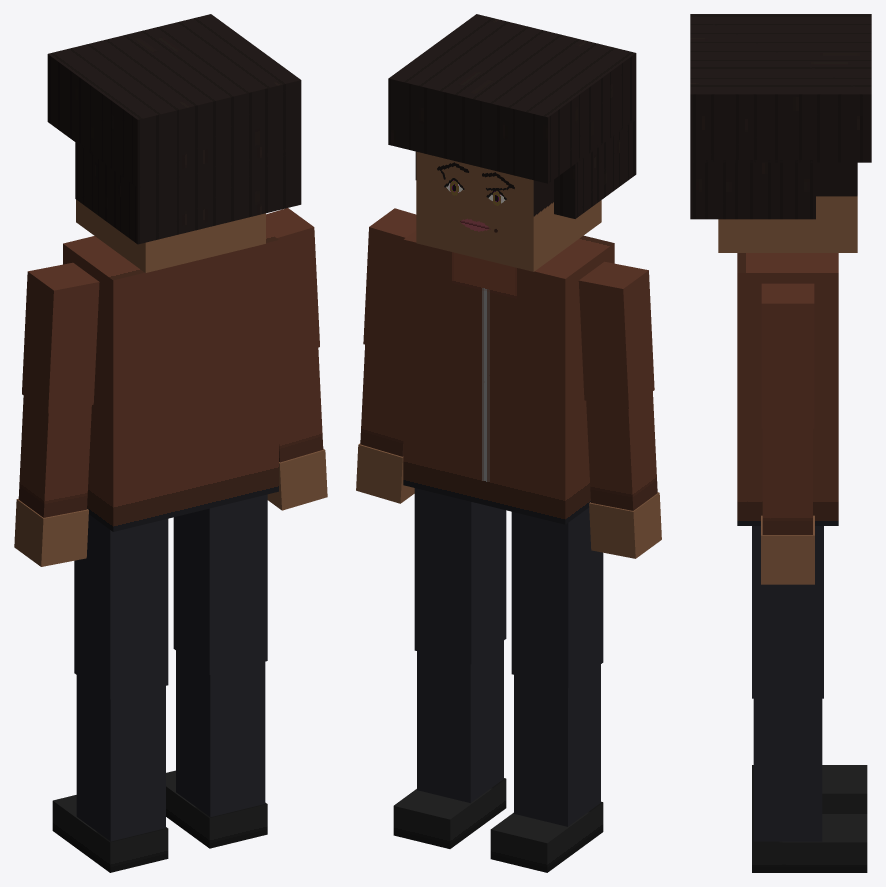
Rendered from survivor_lea.glb.
3 renders of one model, left to right at view 1: azimuth 30°, elevation 25°; view 2: azimuth 150°, elevation 25°; view 3: azimuth 270°, elevation 25°, orthographic. The views are drawn at different scales.
Parts seen in each view (by area): view 1: block_torso, block_hair-afro, block_thigh.L, block_thigh.R, block_hair-afro-back, block_shin.L, block_shin.R, block_upper_arm.L, block_forearm.L, block_upper_arm.R, block_head, block_forearm.R (+4 smaller); view 2: block_torso, block_hair-afro, block_thigh.L, block_thigh.R, block_head, block_shin.R, block_shin.L, block_upper_arm.L, block_forearm.L, block_upper_arm.R, block_foot.L, block_foot.R (+4 smaller); view 3: block_hair-afro, block_torso, block_shin.R, block_thigh.R, block_upper_arm.R, block_hair-afro-back, block_head, block_forearm.R, block_foot.R, block_hand.R, block_foot.L.
Boxes of the visible parts, x1,y1,x2,y2 form: block_torso: (63,230,278,531); block_hair-afro: (47,14,301,187); block_thigh.L: (74,514,168,699); block_thigh.R: (173,494,267,674); block_hair-afro-back: (75,141,301,244); block_shin.L: (76,675,165,841); block_shin.R: (176,651,265,817); block_upper_arm.L: (22,262,99,413); block_forearm.L: (18,396,91,517); block_upper_arm.R: (266,208,319,358); block_head: (76,199,265,272); block_forearm.R: (279,348,323,462); block_torso: (403,230,614,524); block_hair-afro: (388,14,636,183); block_thigh.L: (511,507,603,687); block_thigh.R: (414,488,506,664); block_head: (416,151,601,271); block_shin.R: (417,640,503,802); block_shin.L: (514,664,600,826); block_upper_arm.L: (578,261,654,408); block_forearm.L: (586,391,657,510); block_upper_arm.R: (363,208,416,355); block_foot.L: (490,801,603,872); block_foot.R: (393,778,506,848); block_hair-afro: (690,14,871,162); block_torso: (737,253,838,525); block_shin.R: (753,698,822,841); block_thigh.R: (752,526,823,698); block_upper_arm.R: (761,283,814,428); block_hair-afro-back: (690,160,815,219); block_head: (718,162,857,252); block_forearm.R: (762,428,812,534); block_foot.R: (752,814,867,872); block_hand.R: (761,515,814,584); block_foot.L: (752,765,867,813).
Size of the model in its own units: 0.6908 by 1.79 by 0.377.
1 material, 1 textured.
